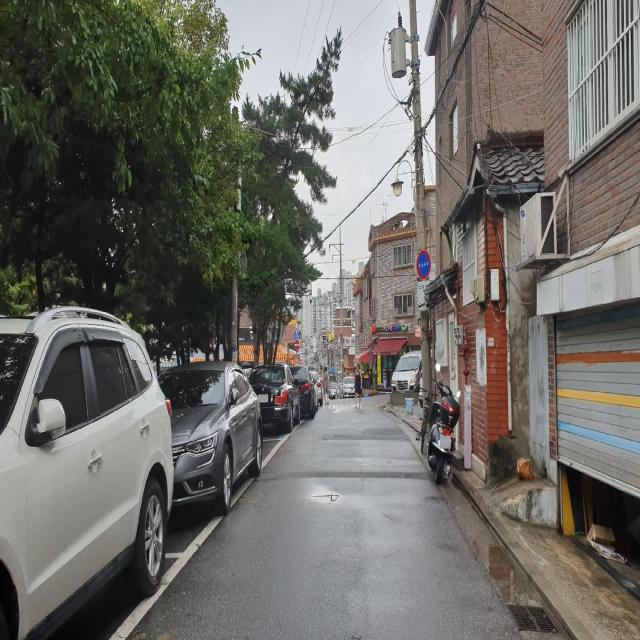car ahead at: (0, 298, 177, 639), (170, 350, 262, 507)
motorcycle ahead at: (422, 376, 462, 496)
